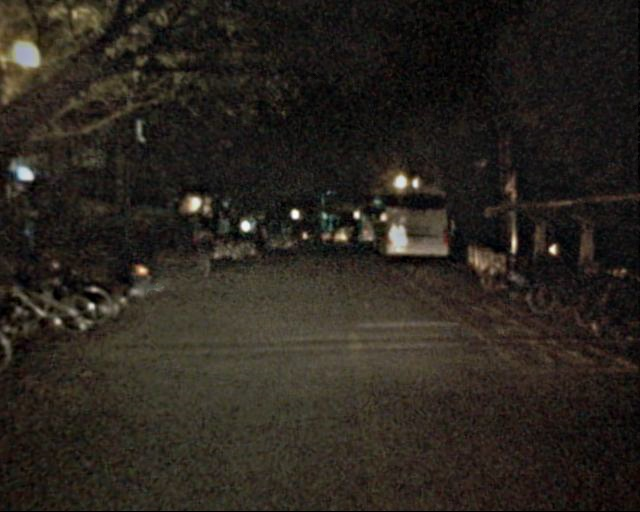person: (126, 227, 153, 293), (193, 220, 216, 276), (250, 221, 267, 263), (343, 224, 360, 255)
